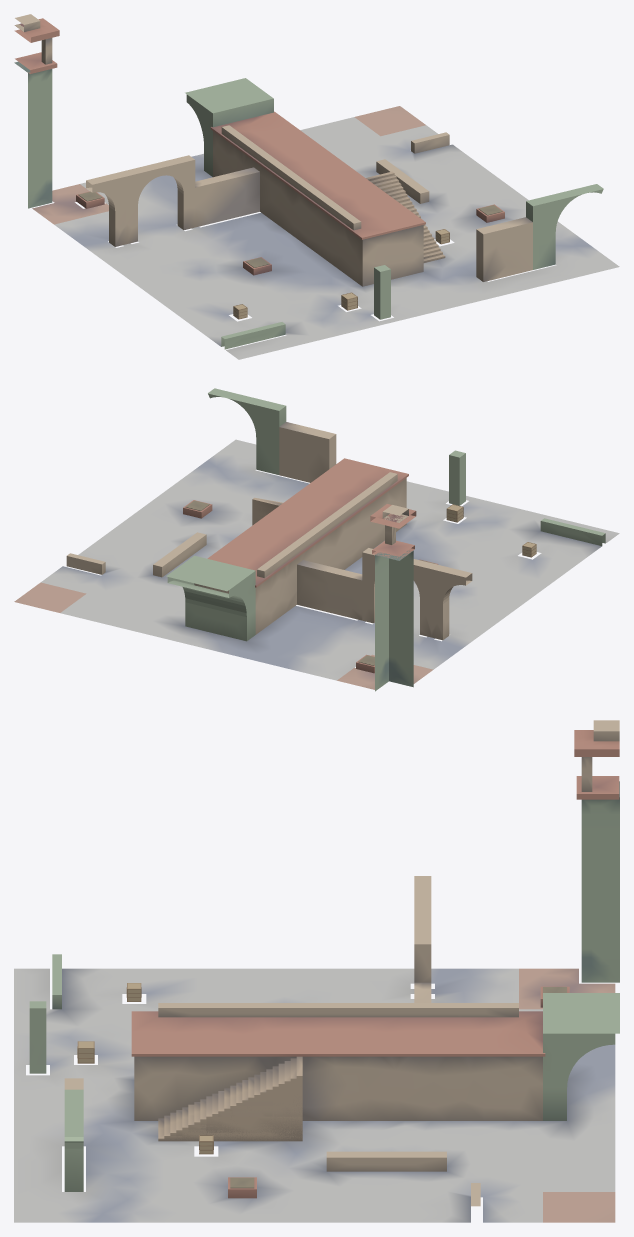
3 renders of one model, top to bottom at view 1: azimuth 30°, elevation 25°; view 2: azimuth 150°, elevation 25°; view 3: azimuth 270°, elevation 25°, orthographic. The views are drawn at different scales.
Parts seen in each view (by area): view 1: t; view 2: t; view 3: t.
Part boxes in pixels (bbox=[...]): t: bbox=[14, 14, 619, 359]; t: bbox=[14, 388, 619, 691]; t: bbox=[14, 720, 619, 1222].
Bounding box in the file's own units: 50.73 × 22.6 × 50.4.
